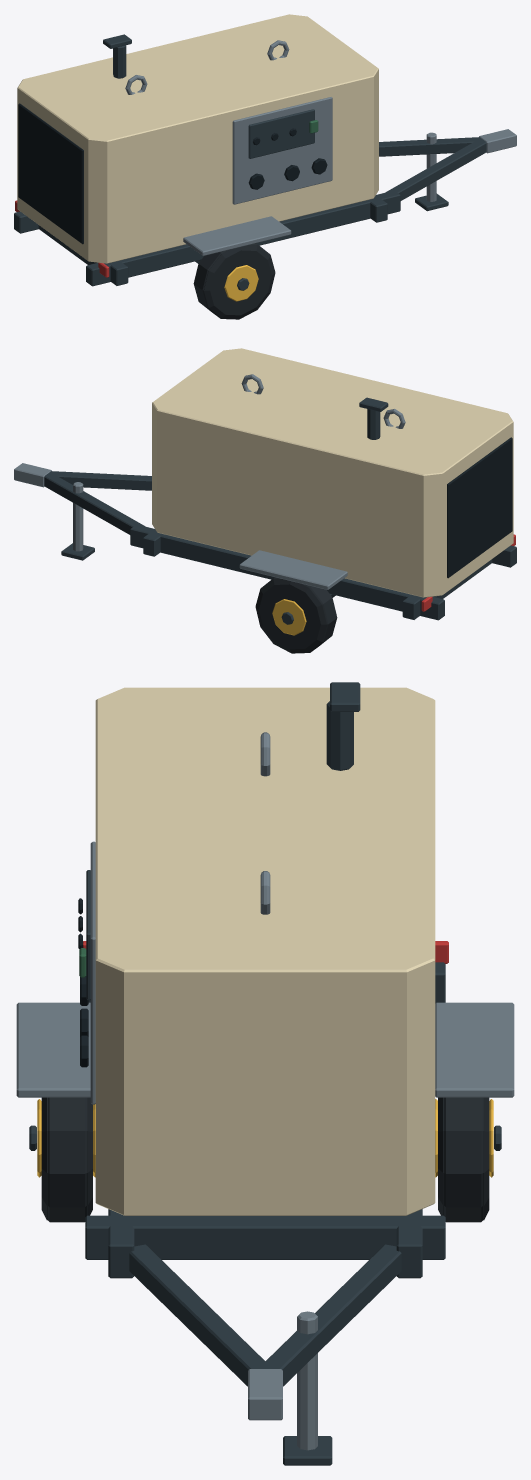
File: b07_silenced_diesel_generator_trailer.glb
The picture shows the model from 3 angles, top to bottom: view 1: azimuth 30°, elevation 25°; view 2: azimuth 150°, elevation 25°; view 3: azimuth 270°, elevation 25°; orthographic projection. The views are drawn at different scales.
Parts seen in each view (by area): view 1: b07_silenced_diesel_generator_trailer; view 2: b07_silenced_diesel_generator_trailer; view 3: b07_silenced_diesel_generator_trailer.
Part boxes in pixels (x1=…): b07_silenced_diesel_generator_trailer: x1=14, y1=14, x2=516, y2=319; b07_silenced_diesel_generator_trailer: x1=14, y1=348, x2=516, y2=653; b07_silenced_diesel_generator_trailer: x1=16, y1=682, x2=514, y2=1465.
Size of the model in its own units: 4.57 by 2.24 by 2.13.
